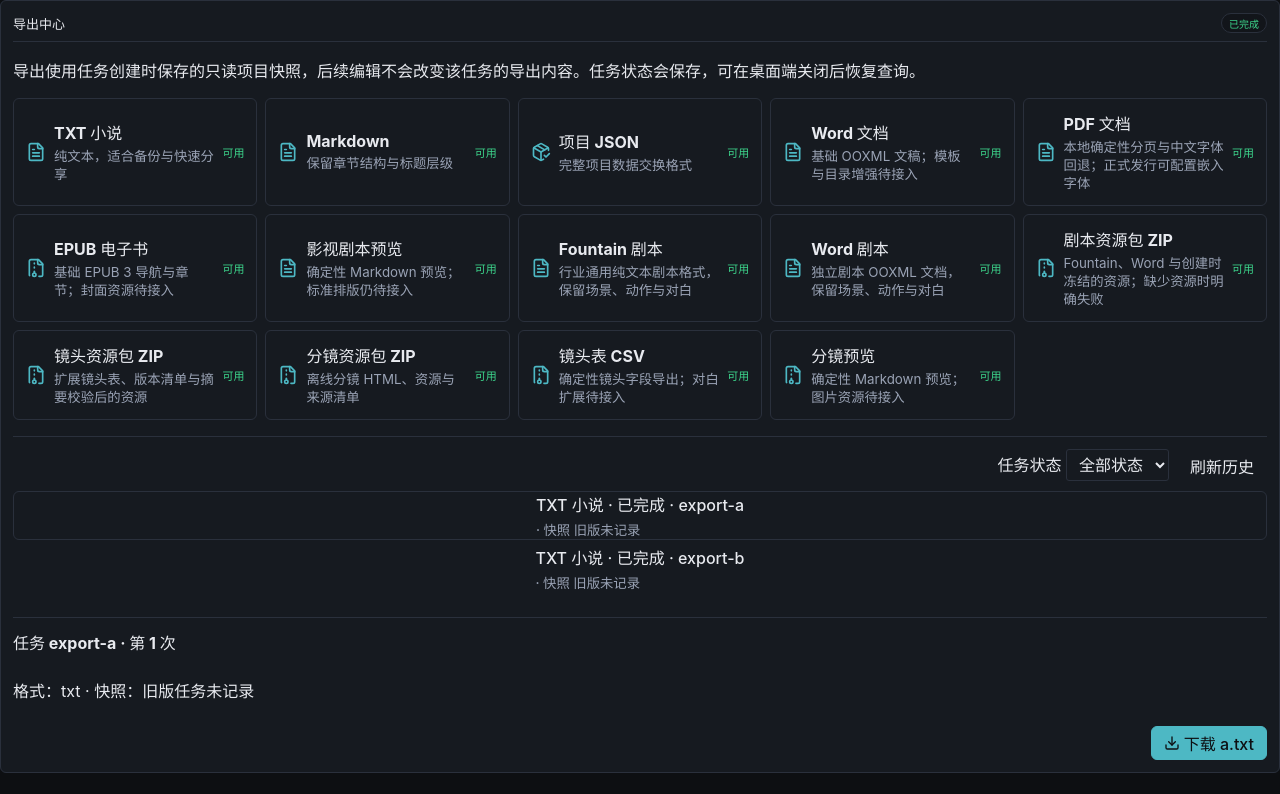
Test: Export download feedback › keeps a failed download attached to its own task when another history item is selected
Click the button "下载 a.txt": (1209, 743) [1151,726,1267,760]
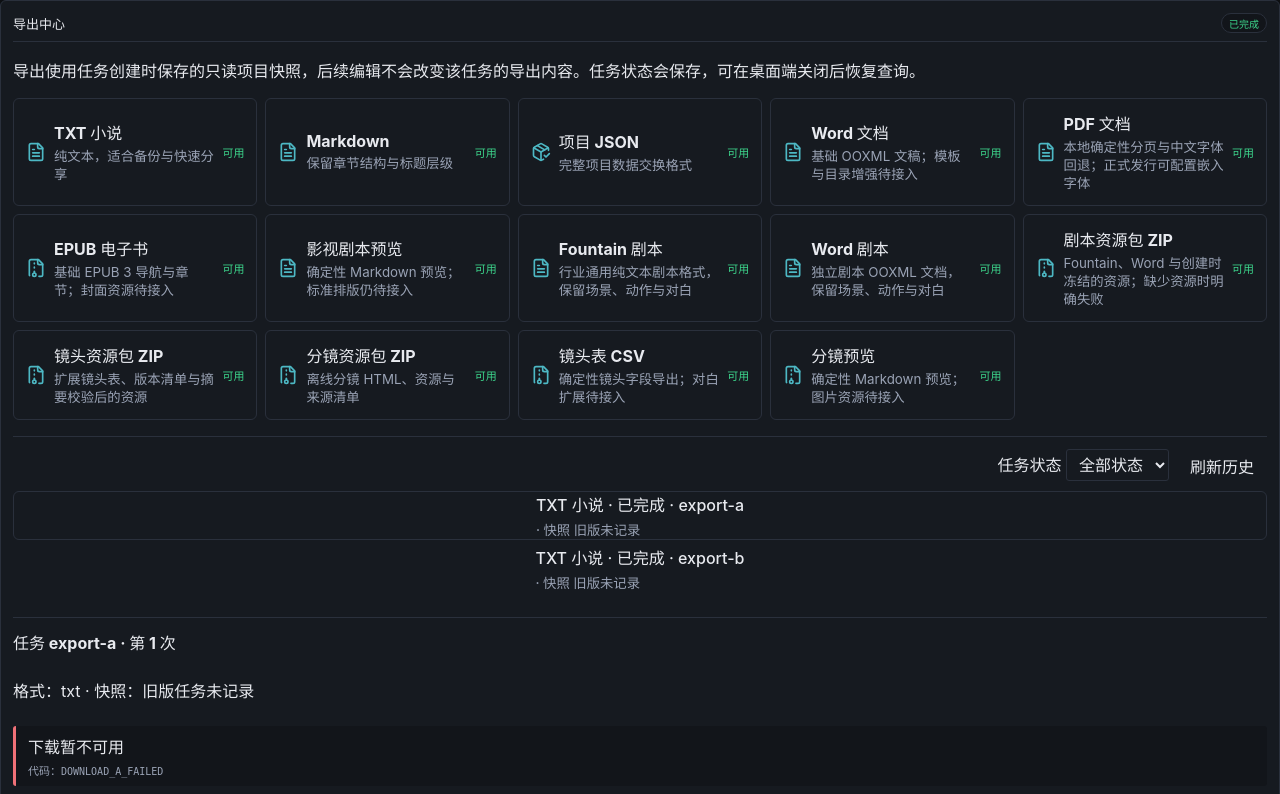
Expected: the text "DOWNLOAD_A_FAILED" is shown, [61,766,163,777]
Click the button "TXT 小说 · 已完成 · export-b · 快照 旧版未记录": (640, 568) [13,544,1267,593]
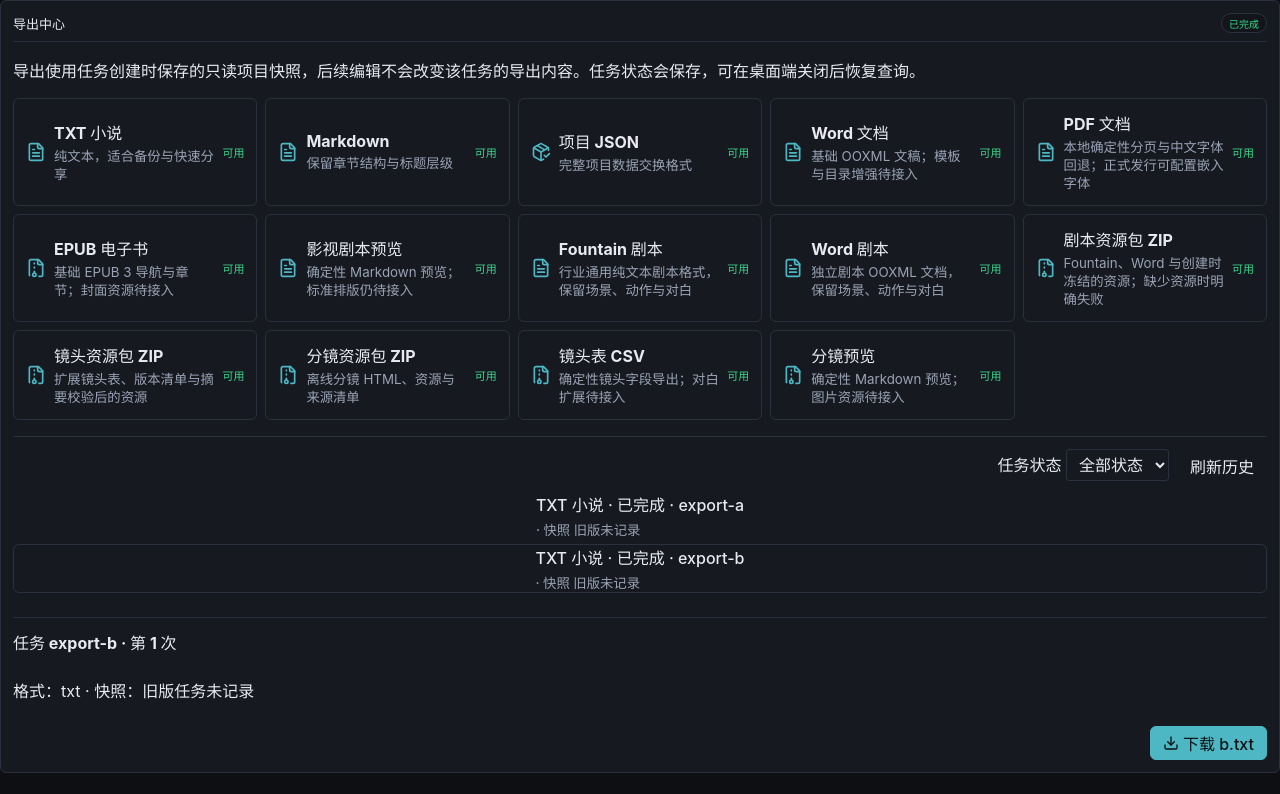
Expected: the button "下载 b.txt" is shown, [1150,726,1267,760]
Expected: the text "DOWNLOAD_A_FAILED" is gone
Click the button "TXT 小说 · 已完成 · export-a · 快照 旧版未记录": (640, 515) [13,491,1267,540]
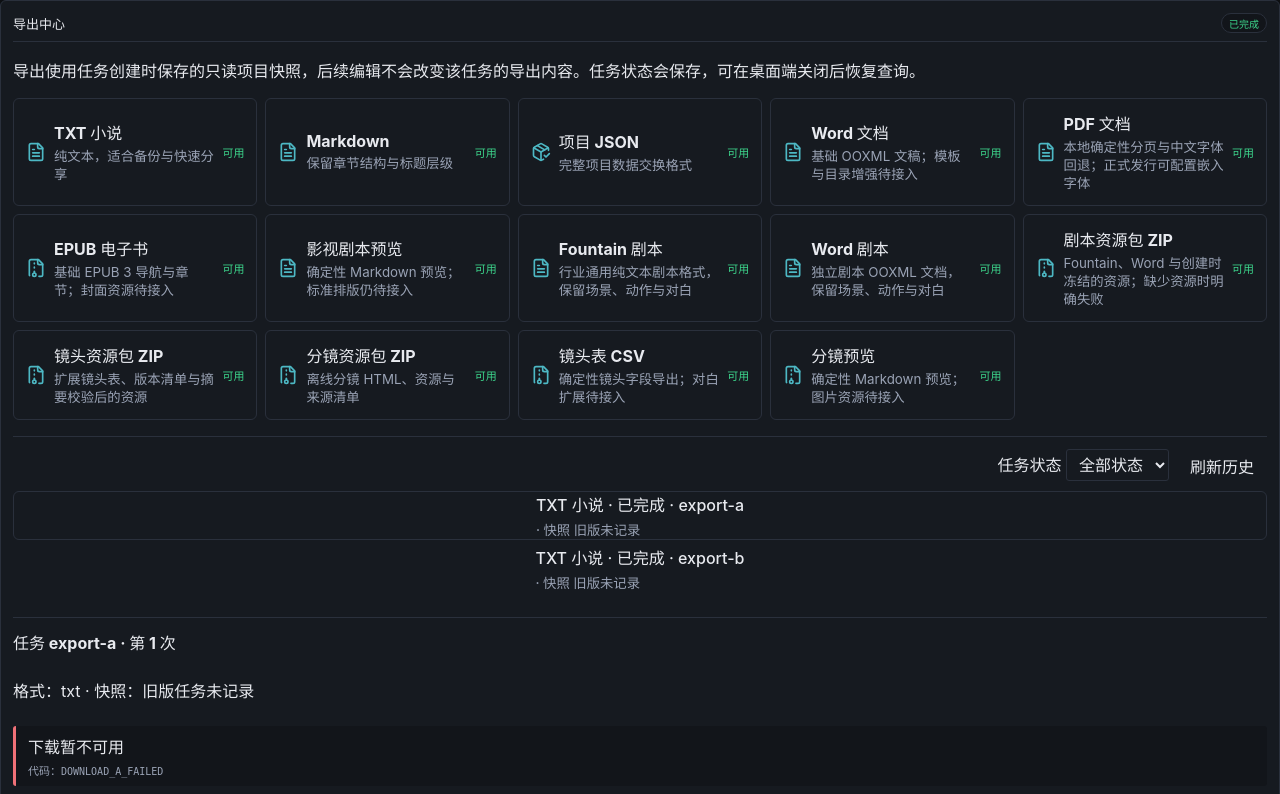
Expected: the text "DOWNLOAD_A_FAILED" is shown, [61,766,163,777]
